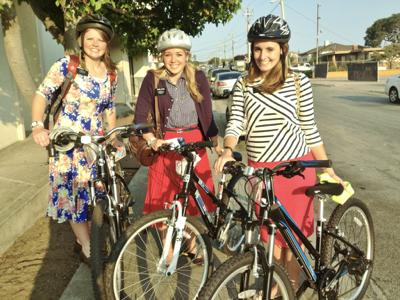With Helmet: (240, 12, 294, 72), (73, 13, 118, 60), (155, 26, 195, 76)
